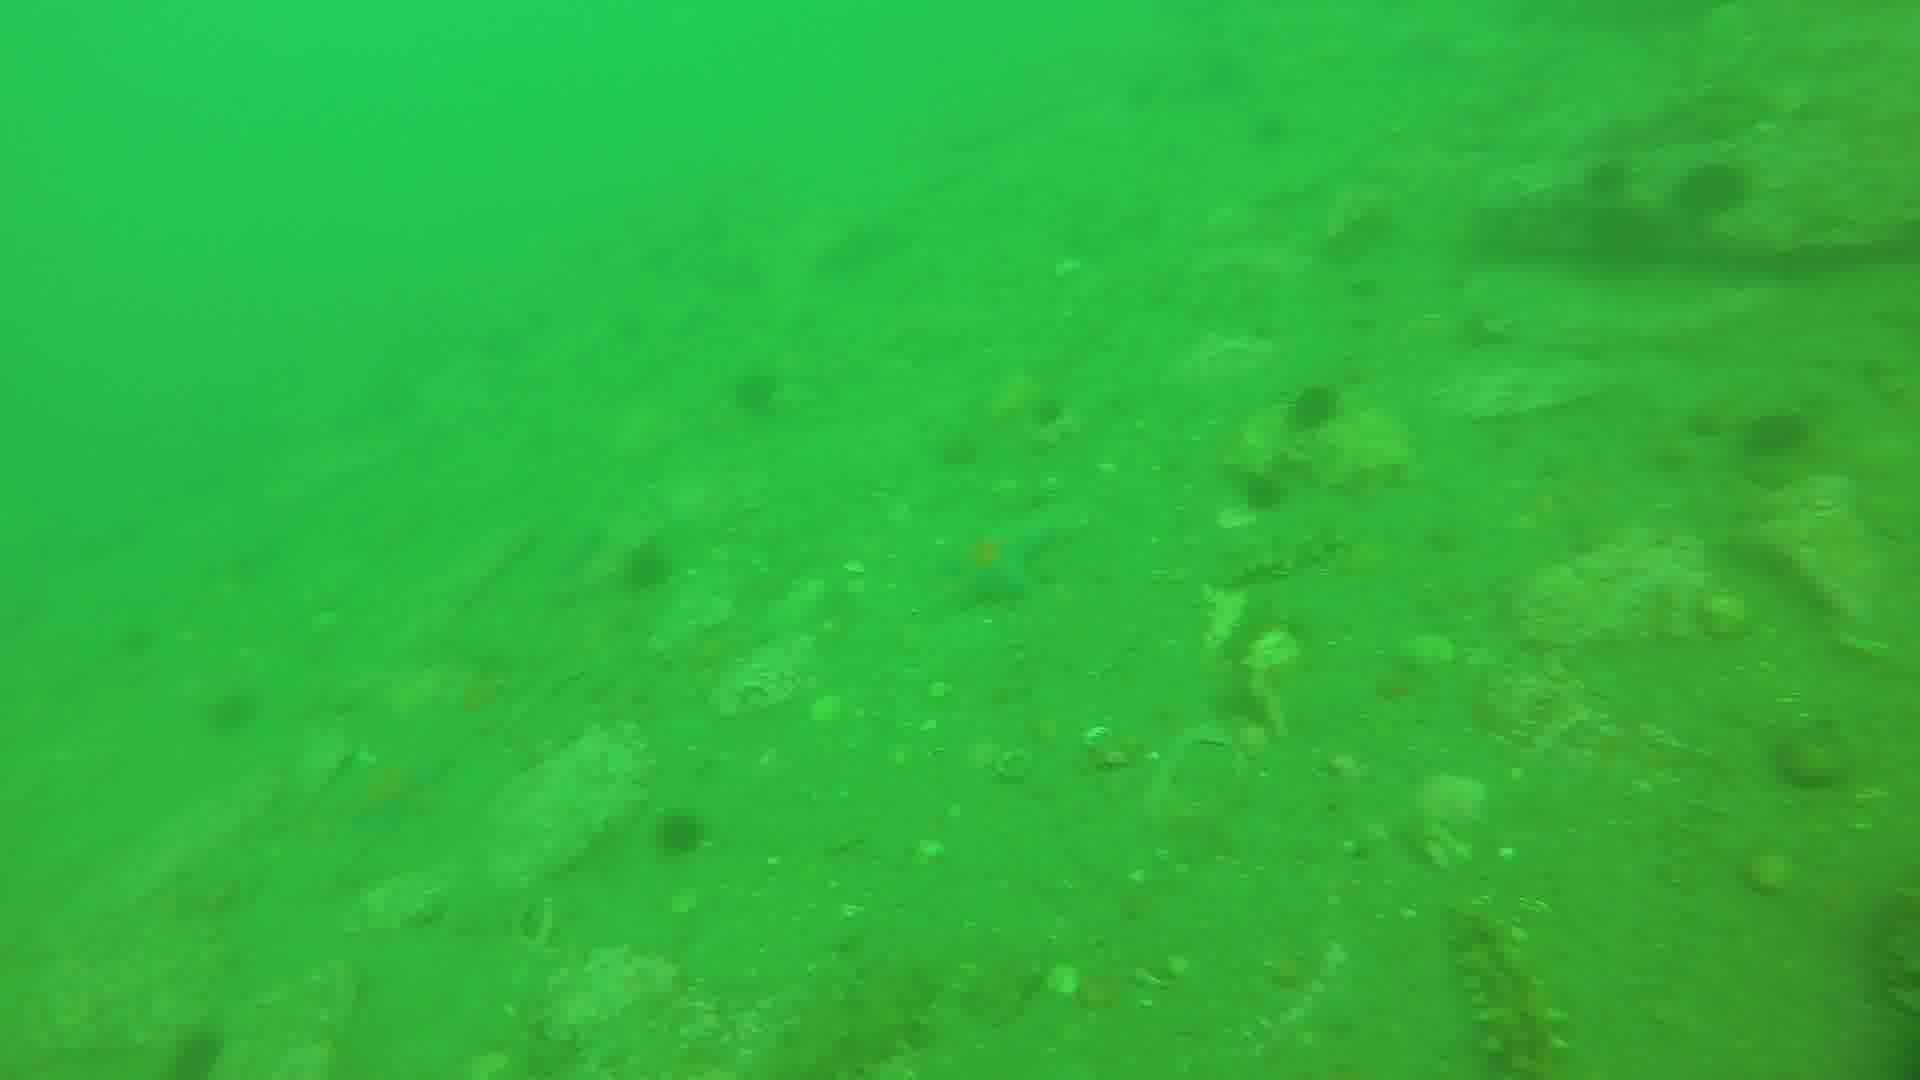echinus: (1687, 160, 1755, 214), (1280, 380, 1341, 435), (1747, 407, 1811, 452), (621, 542, 669, 593), (657, 814, 713, 855)
holothurian: (1447, 901, 1567, 1080), (1215, 516, 1358, 601)
starfish: (963, 516, 1048, 609)
